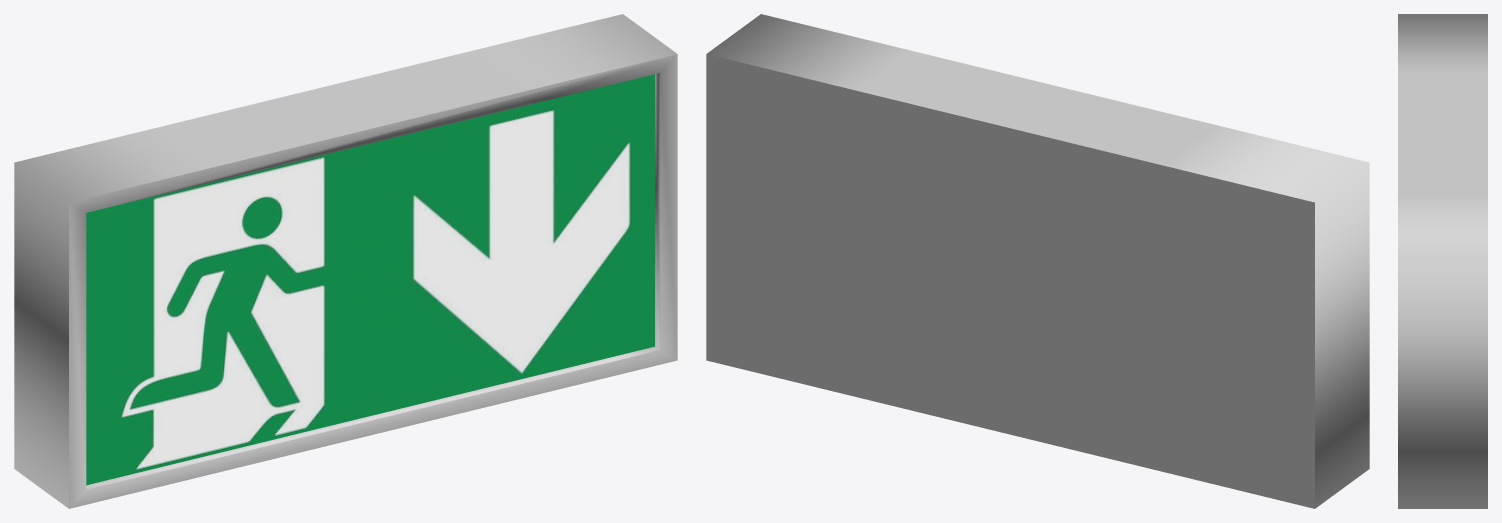
3 renders of one model, left to right at view 1: azimuth 30°, elevation 25°; view 2: azimuth 150°, elevation 25°; view 3: azimuth 270°, elevation 25°, orthographic. The views are drawn at different scales.
Parts seen in each view (by area): view 1: Exit; view 2: Exit; view 3: Exit.
Boxes of the visible parts, box(x1,y1,x2,y2) form: Exit: box(14, 14, 677, 508); Exit: box(706, 14, 1369, 508); Exit: box(1398, 14, 1487, 508).
Size of the model in its own units: 1317 by 665 by 205.
Materials: 5 (3 with a texture image).
